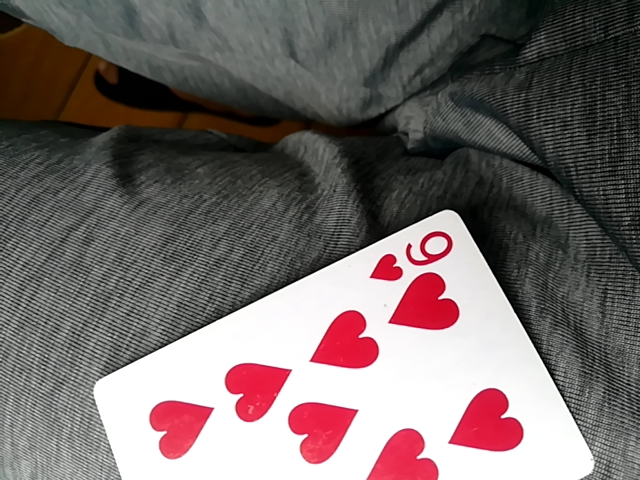hx 9: (95, 206, 595, 479)
